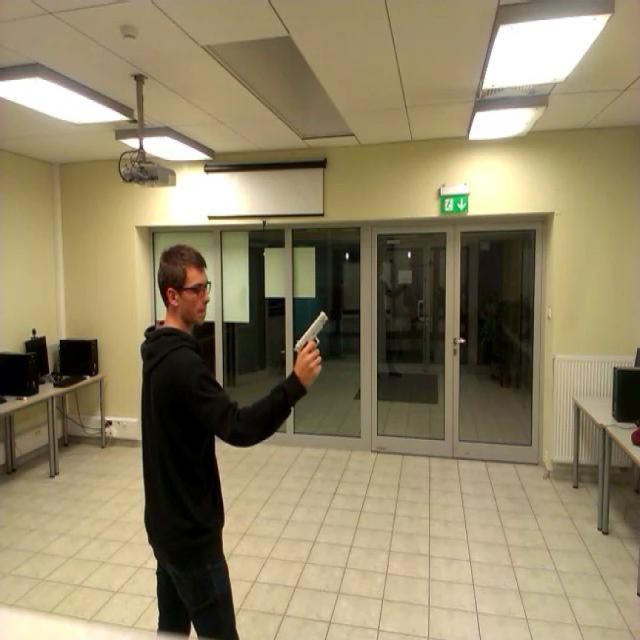pistol: (293, 309, 328, 368)
